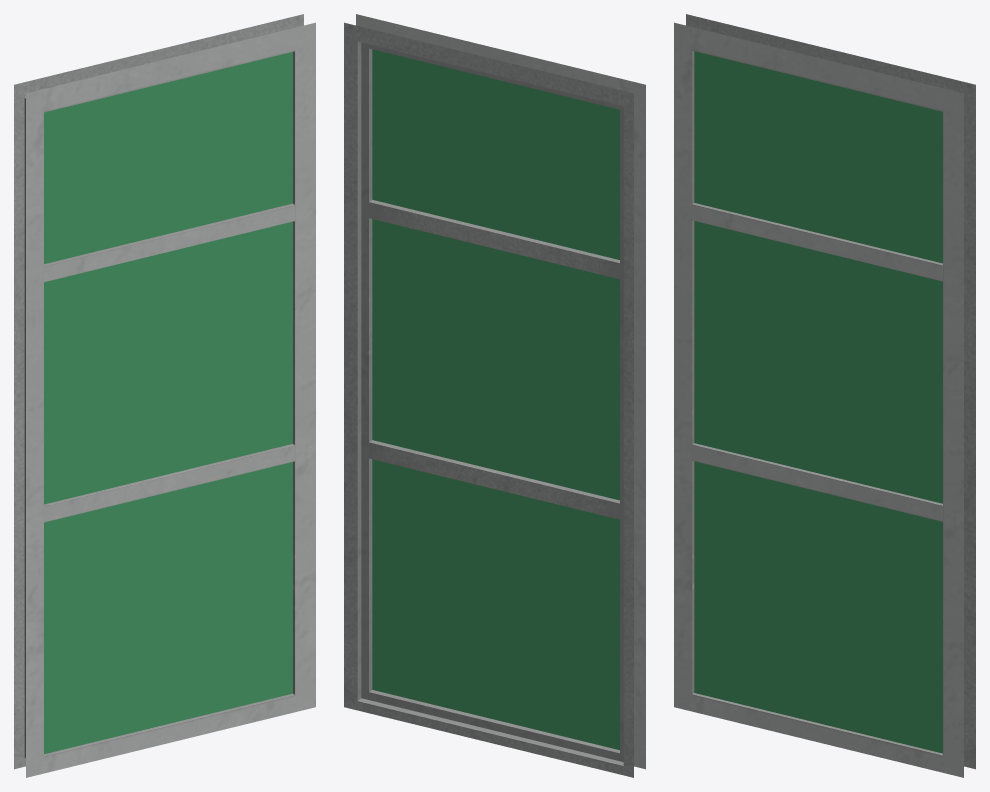
File: SingleWindow.fbx
The picture shows the model from 3 angles, left to right: view 1: azimuth 30°, elevation 25°; view 2: azimuth 150°, elevation 25°; view 3: azimuth 330°, elevation 25°; orthographic projection.
Parts seen in each view (by area): view 1: Glass, Frame; view 2: Glass, Frame; view 3: Glass, Frame.
Boxes of the visible parts, box(x1,y1,x2,y2) form: Glass: box(44, 52, 292, 754); Frame: box(14, 14, 315, 777); Glass: box(372, 49, 619, 749); Frame: box(344, 14, 645, 777); Glass: box(694, 51, 942, 753); Frame: box(674, 14, 975, 777).
Bounding box in the file's own units: 102 × 230 × 7.18.
